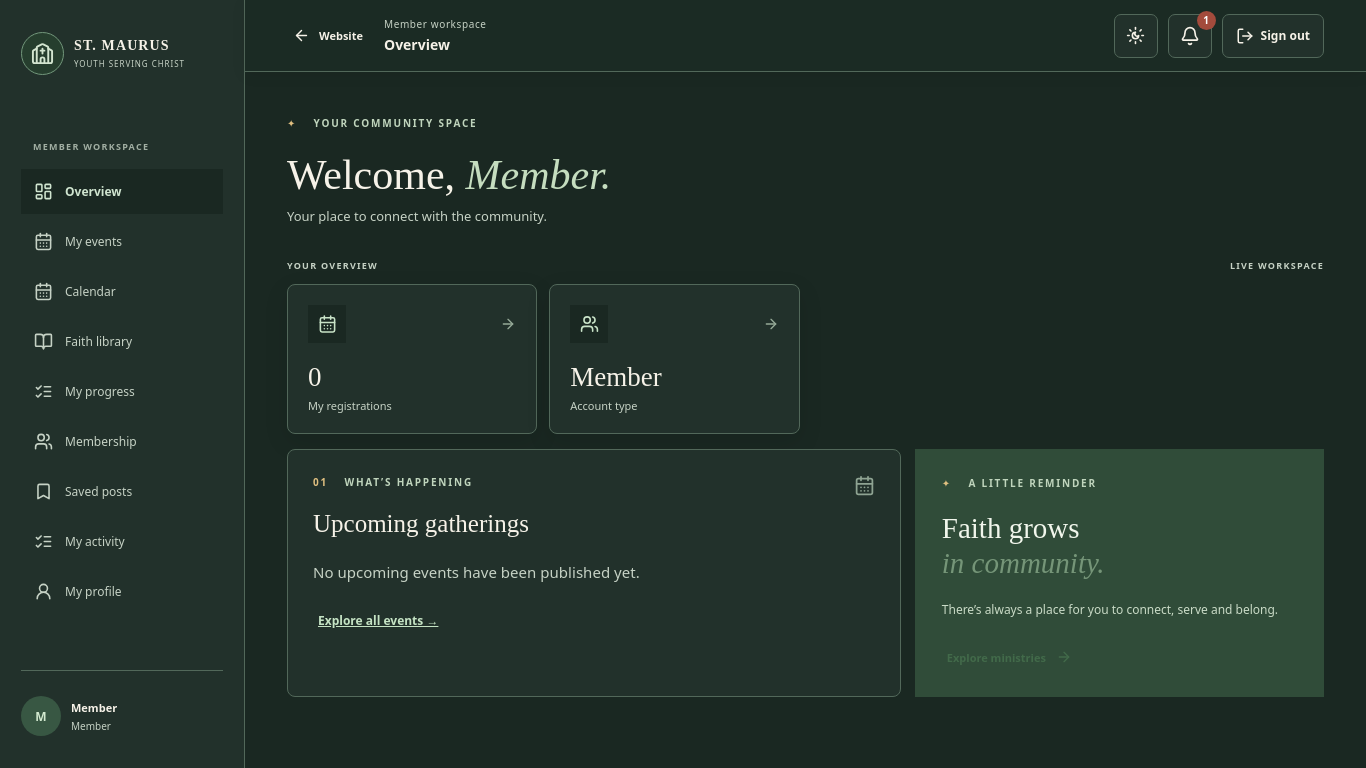
Test: location and dashboard notifications › updates the notification badge, marks read, and opens an allowed section
Step 1. Click the button named "Notifications, 1 unread" → (1190, 36), box [1168,14,1212,58]
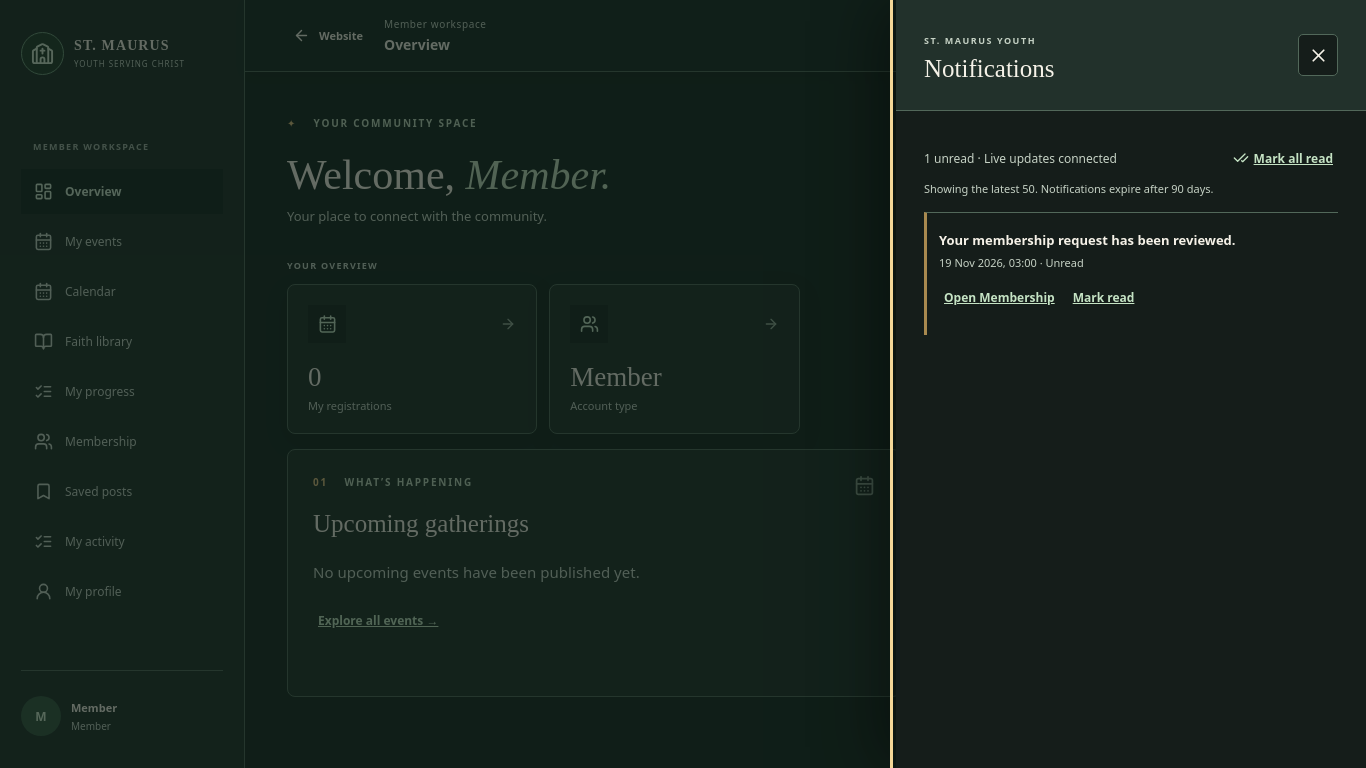
Expected: the text "Your membership request has been reviewed." is shown, [939,231,1236,249]
Step 2. Click the button "Open Membership" → (999, 298), box [939,278,1060,318]
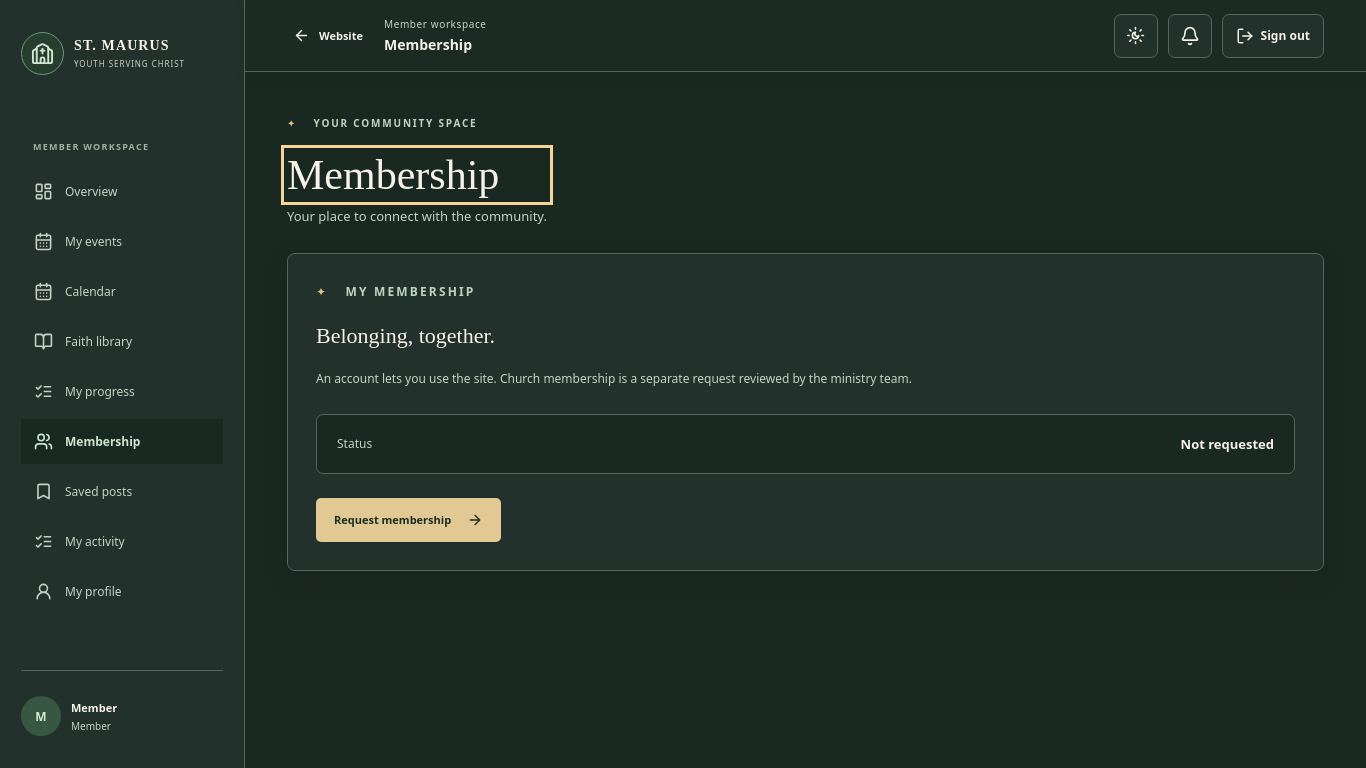
Expected: the button named "Notifications, 0 unread" is shown, [1168,14,1212,58]
Expected: the heading "Membership" is shown, [287,152,499,198]
